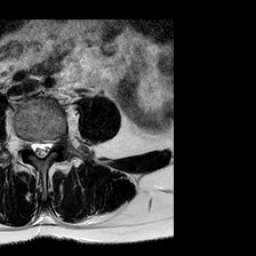CCS_stenosis: (37, 129, 45, 165)
LFS_normal: (53, 129, 61, 153)
LLS_normal: (45, 130, 53, 159)
RFS_normal: (20, 129, 29, 155)
RLS_normal: (29, 132, 37, 159)
